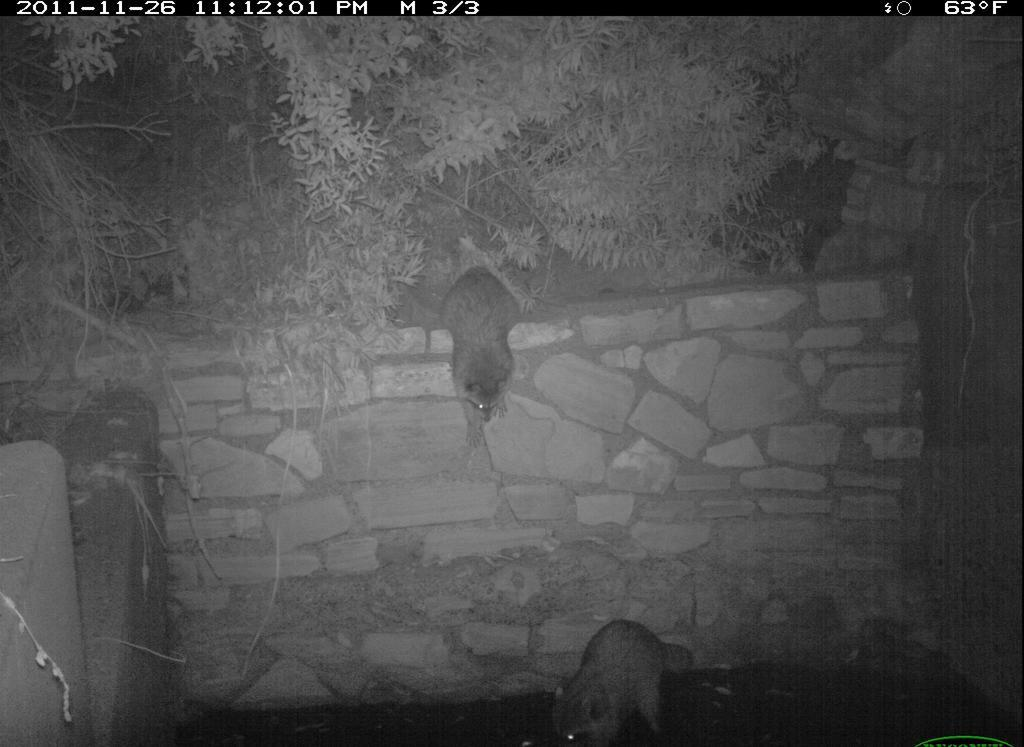raccoon: (542, 615, 705, 747), (441, 258, 529, 450)
